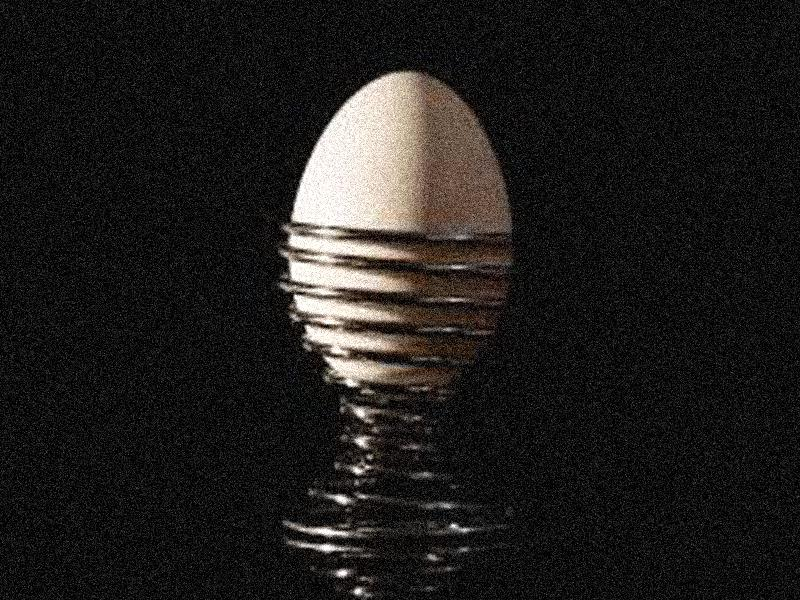Eggs: (287, 69, 511, 387)
